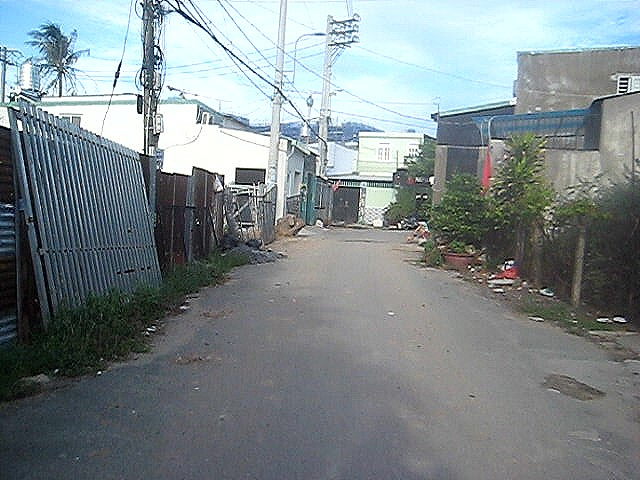hole: (541, 371, 606, 402)
